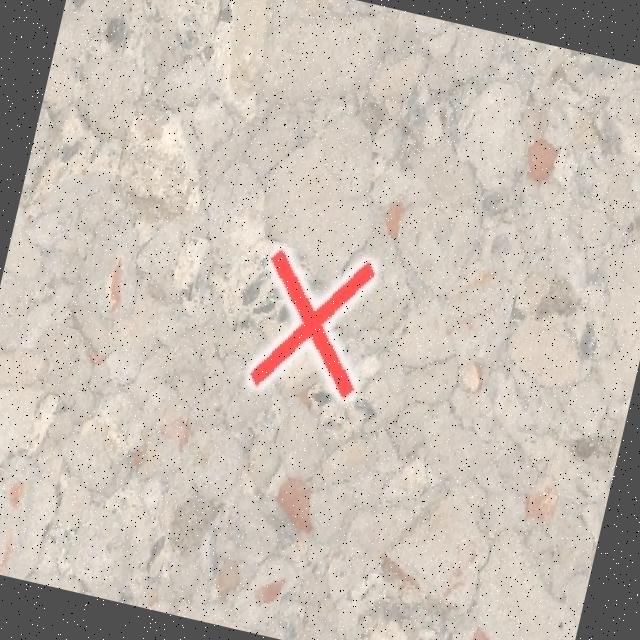x_marker: (242, 240, 382, 404)
